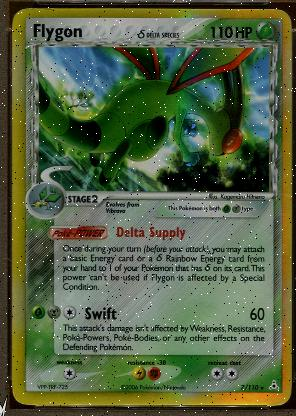Card: (11, 6, 291, 406)
Edge Wear: (30, 7, 60, 10)
